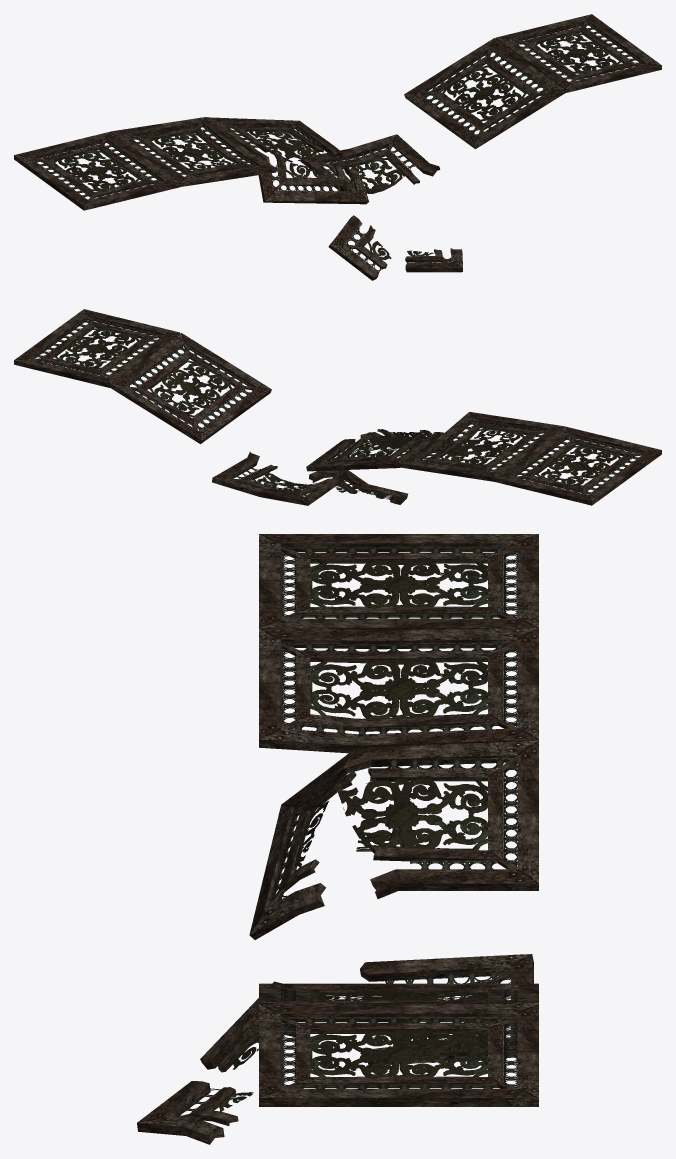
The model's file is collapse_gratings_01.DAE.
3 views of the same model, one above another, from view 1: azimuth 30°, elevation 25°; view 2: azimuth 150°, elevation 25°; view 3: azimuth 270°, elevation 25° (orthographic). The views are drawn at different scales.
Visible parts, largest first — view 1: Box007, Box006; view 2: Box007, Box006; view 3: Box007, Box006.
Part boxes in pixels (left/top/right/bottom): Box007: left=14, top=14, right=661, bottom=280; Box006: left=34, top=23, right=644, bottom=271; Box007: left=14, top=309, right=661, bottom=505; Box006: left=31, top=318, right=642, bottom=500; Box007: left=137, top=534, right=538, bottom=1144; Box006: left=173, top=547, right=517, bottom=1119.
Size of the model in its own units: 18.6 by 4.06 by 5.61.
